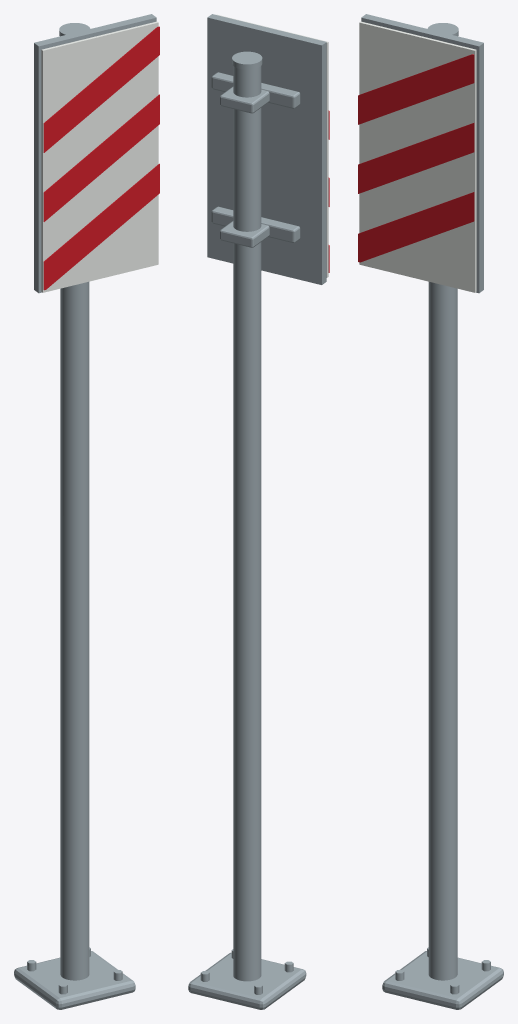
The model's file is DS_Sign_RailwayDist3_R.glb.
3 renders of one model, left to right at view 1: azimuth 30°, elevation 25°; view 2: azimuth 150°, elevation 25°; view 3: azimuth 330°, elevation 25°, orthographic. The views are drawn at different scales.
Parts seen in each view (by area): view 1: Post.004, Face_Field.002, Stripe_1, Stripe_2, Stripe_0, BasePlate.004, Plate_Back.007; view 2: Post.004, Plate_Back.007, BasePlate.004, RearRail.010, RearRail.009, Face_Field.002, PostClamp.010, PostClamp.009, PostCap.004; view 3: Post.004, Face_Field.002, BasePlate.004, Stripe_1, Stripe_0, Stripe_2, Plate_Back.007.
Boxes of the visible parts, x1,y1,x2,y2 form: Post.004: (60,281,89,980); Face_Field.002: (41,21,158,292); Stripe_1: (43,94,159,221); Stripe_2: (43,26,159,152); Stripe_0: (43,163,159,290); BasePlate.004: (14,951,135,1009); Plate_Back.007: (34,14,156,293); Post.004: (233,66,261,981); Plate_Back.007: (207,14,326,284); BasePlate.004: (188,952,306,1009); RearRail.010: (211,72,300,108); RearRail.009: (211,206,300,242); Face_Field.002: (216,14,328,277); PostClamp.010: (220,86,269,113); PostClamp.009: (220,221,269,247); PostCap.004: (232,51,262,69); Post.004: (428,281,457,980); Face_Field.002: (359,21,476,292); BasePlate.004: (382,951,503,1009); Stripe_1: (358,123,474,193); Stripe_0: (358,192,474,262); Stripe_2: (358,54,474,124); Plate_Back.007: (361,14,483,293).
Bounding box in the file's own units: 0.357 × 2.81 × 0.262.
